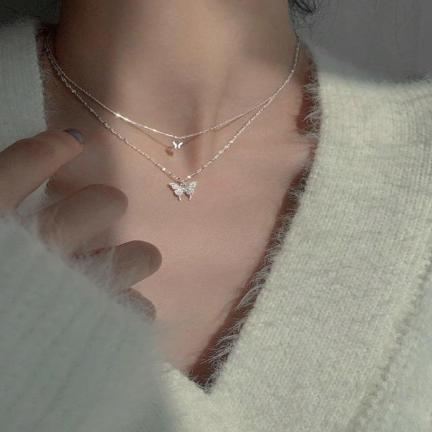Nail: (62, 128, 85, 144)
